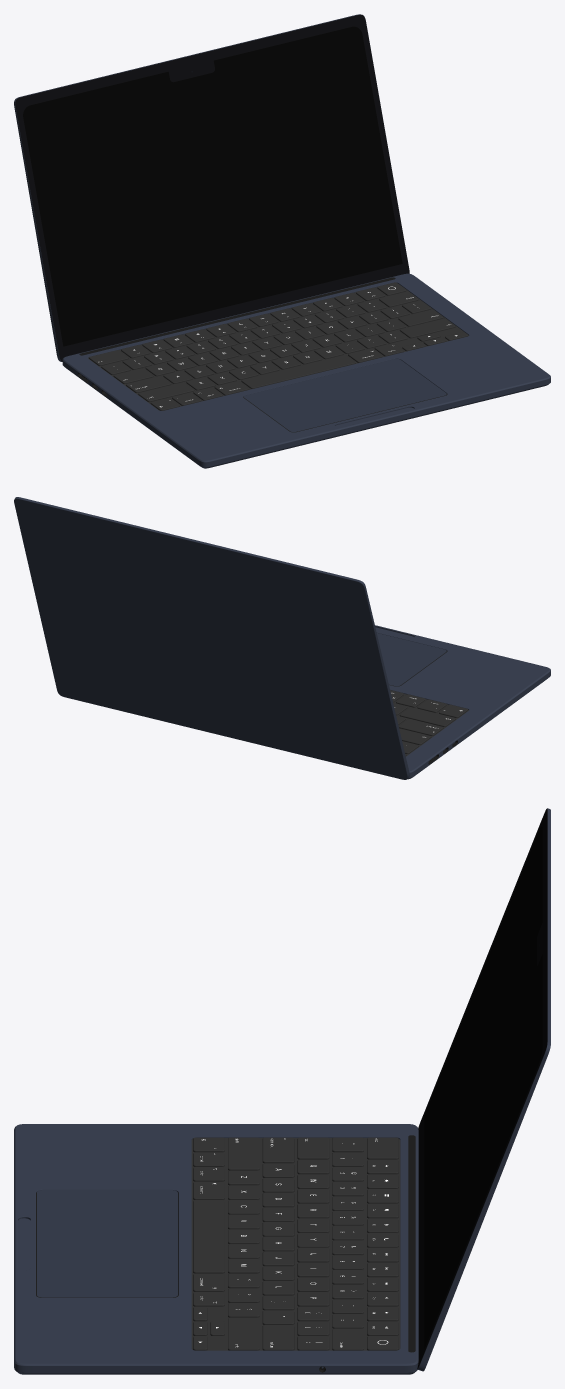
Rendered from laptop-minimal.glb.
3 renders of one model, top to bottom at view 1: azimuth 30°, elevation 25°; view 2: azimuth 150°, elevation 25°; view 3: azimuth 270°, elevation 25°, orthographic. The views are drawn at different scales.
Visible parts, largest first — view 1: screen, base, keys, display_border, trackpad, lid; view 2: lid, base, keys, trackpad; view 3: base, keys, screen, trackpad, display_border, lid.
Boxes of the visible parts, left/top/right/bottom form: screen: left=23, top=26, right=402, bottom=346; base: left=62, top=273, right=550, bottom=468; keys: left=89, top=282, right=468, bottom=410; display_border: left=17, top=16, right=408, bottom=359; trackpad: left=244, top=359, right=446, bottom=431; lid: left=14, top=14, right=409, bottom=361; lid: left=14, top=497, right=409, bottom=779; base: left=375, top=625, right=550, bottom=779; keys: left=390, top=690, right=467, bottom=755; trackpad: left=377, top=633, right=446, bottom=686; base: left=14, top=1124, right=418, bottom=1374; keys: left=193, top=1137, right=398, bottom=1350; screen: left=424, top=826, right=542, bottom=1348; trackpad: left=37, top=1190, right=177, bottom=1297; display_border: left=418, top=811, right=546, bottom=1366; lid: left=417, top=808, right=550, bottom=1371.
Bounding box in the file's own units: 0.312 × 0.2006 × 0.2933.
